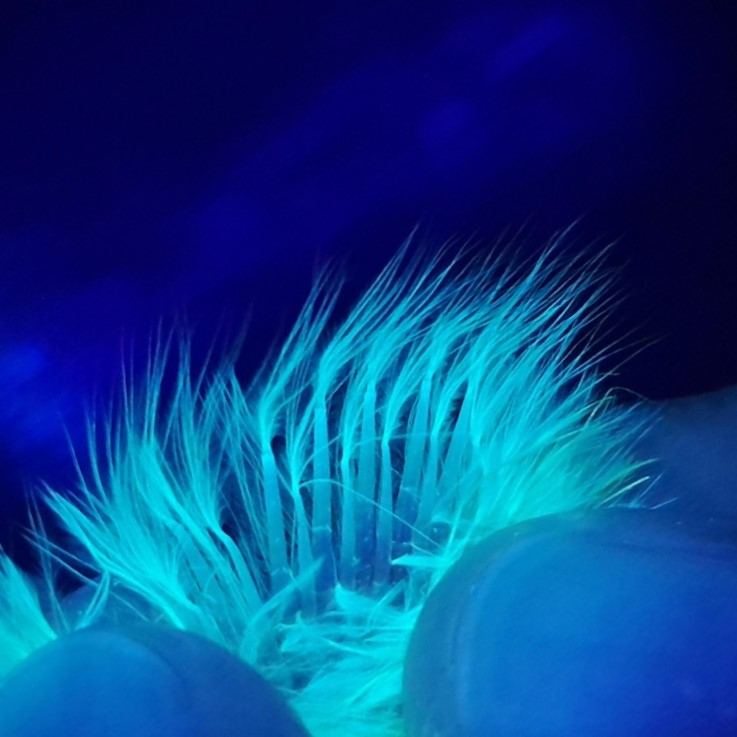female: (228, 369, 483, 644)
